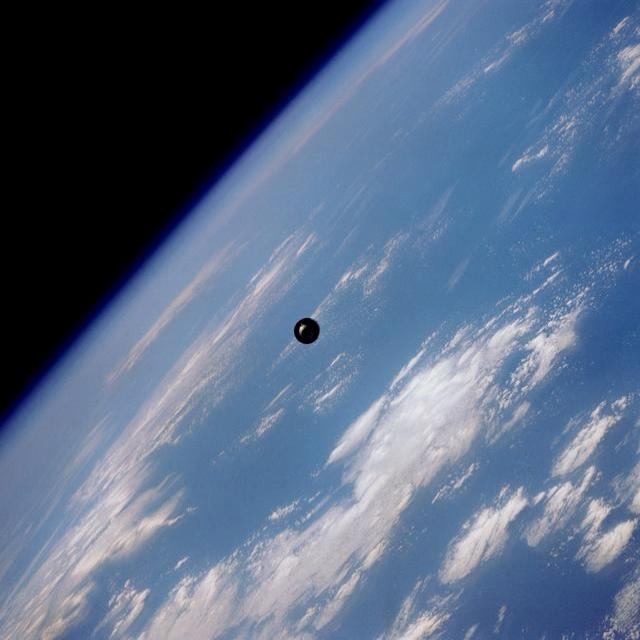satellite: (294, 318, 320, 344)
